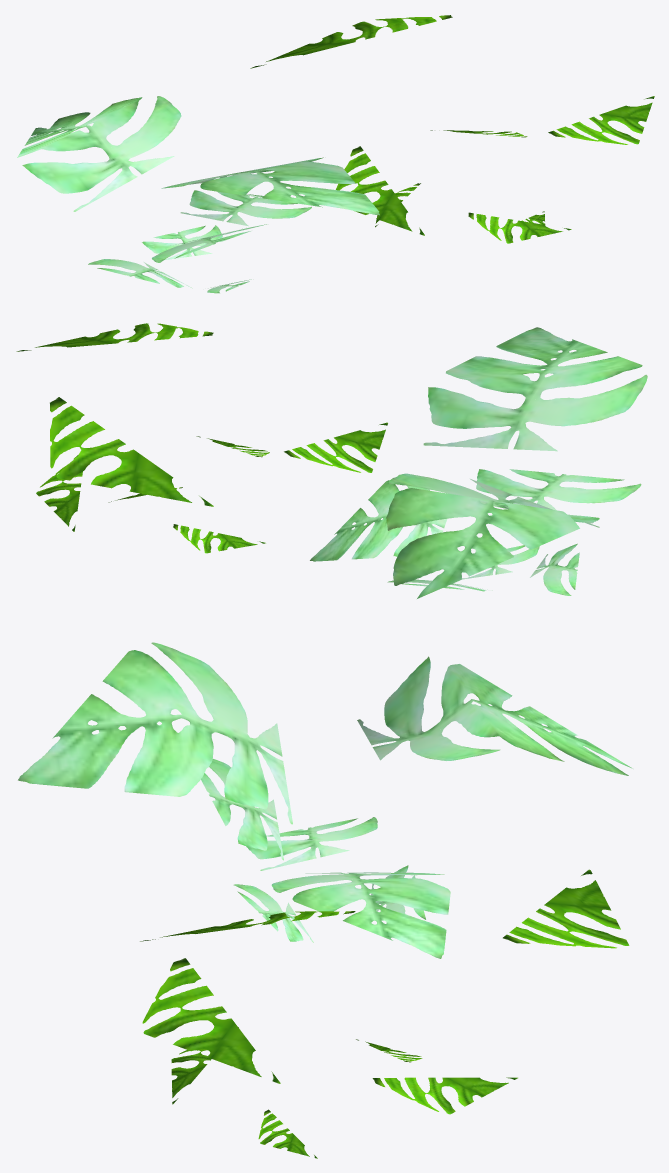
File: monstera-a.lod1.glb
The picture shows the model from 3 angles, top to bottom: view 1: azimuth 30°, elevation 25°; view 2: azimuth 150°, elevation 25°; view 3: azimuth 270°, elevation 25°; orthographic projection. The views are drawn at different scales.
Visible parts, largest first — view 1: Object_4; view 2: Object_4; view 3: Object_4.
Boxes of the visible parts, x1,y1,x2,y2 form: Object_4: [17, 15, 654, 293]; Object_4: [16, 323, 647, 598]; Object_4: [18, 642, 632, 1158].
Size of the model in its own units: 3.18 by 0.9119 by 2.21.
Materials: 1 (1 with a texture image).
